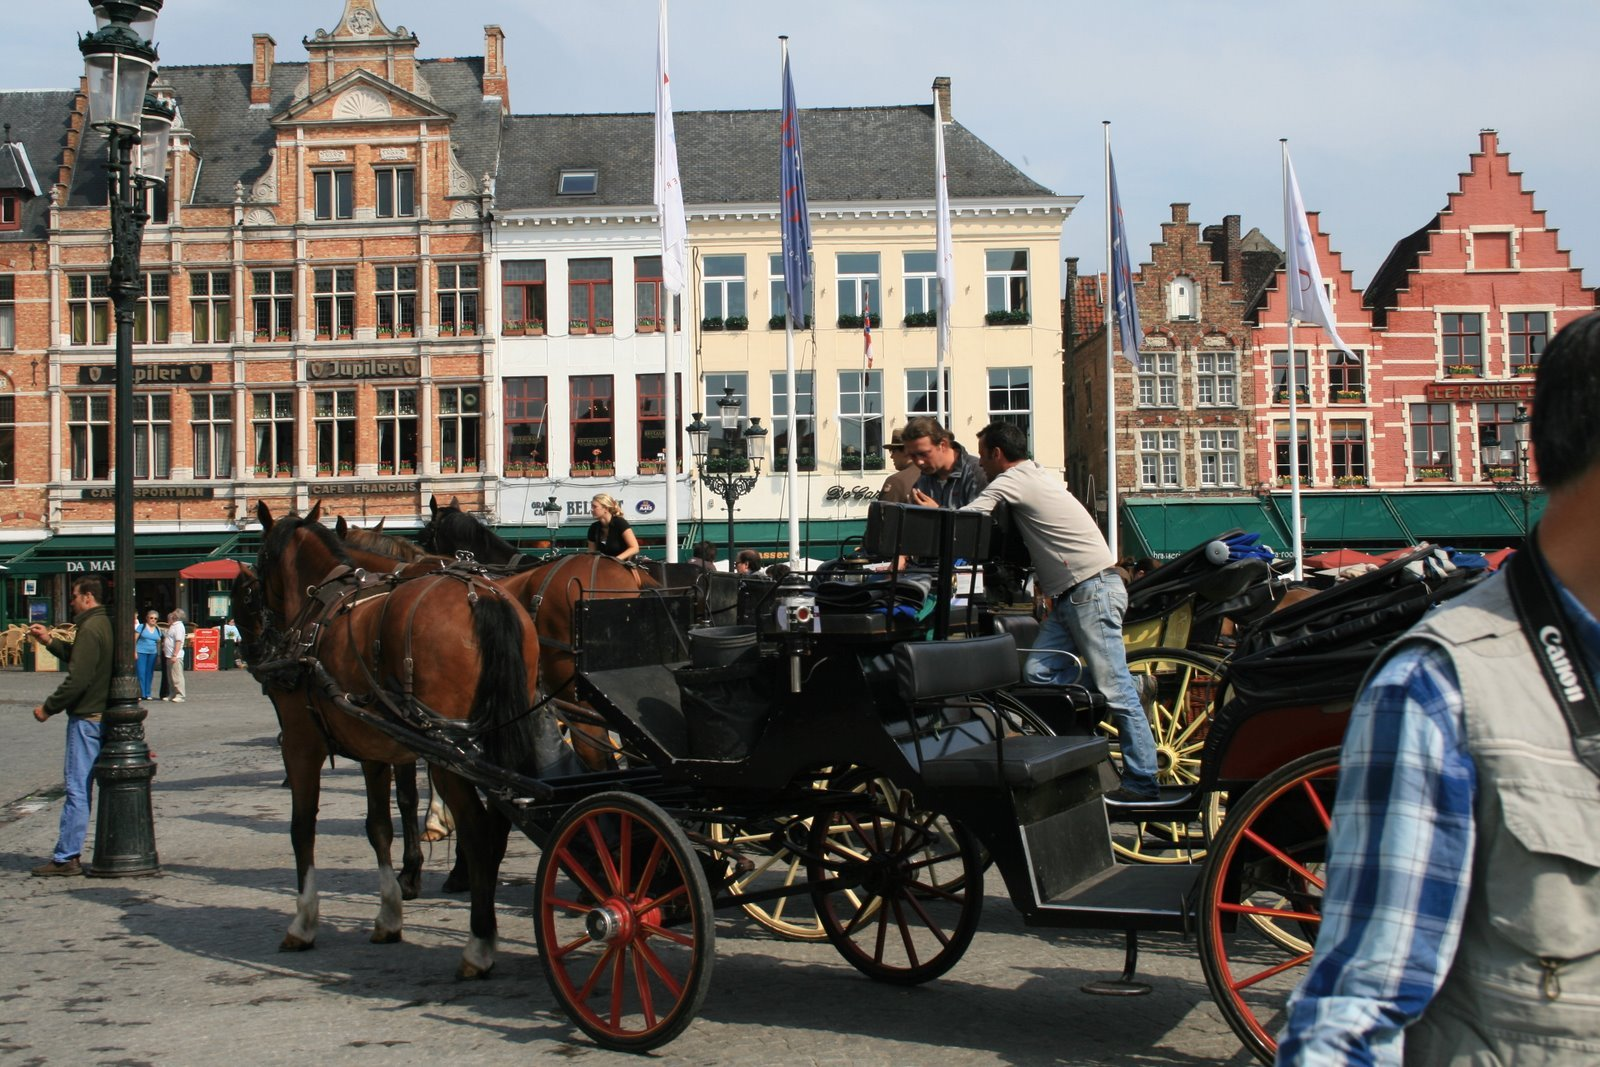horse: (237, 494, 554, 985), (319, 506, 676, 913), (408, 493, 779, 846)
